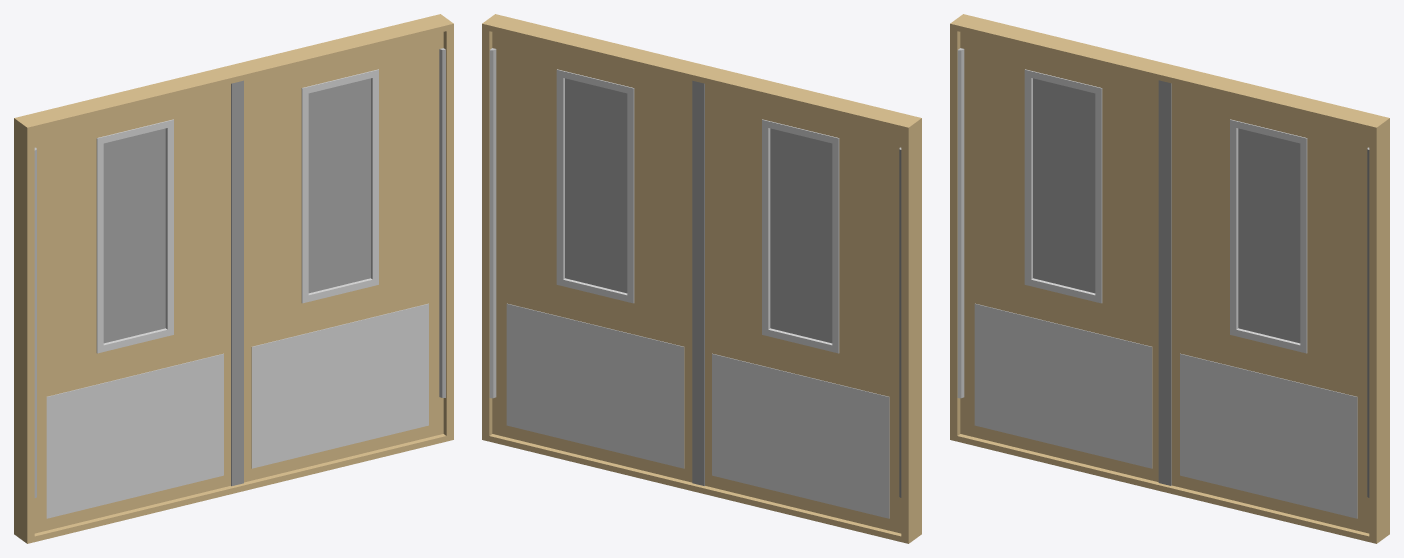
The model's file is a door1.fbx.
The picture shows the model from 3 angles, left to right: view 1: azimuth 30°, elevation 25°; view 2: azimuth 150°, elevation 25°; view 3: azimuth 330°, elevation 25°; orthographic projection.
Visible parts, largest first — view 1: Cube_14, Cube_10, Boole; view 2: Cube_14, Cube_10, Boole; view 3: Cube_14, Cube_10, Boole.
Part boxes in pixels (bbox=[...]): Cube_14: bbox=[231, 32, 445, 486]; Cube_10: bbox=[34, 84, 230, 533]; Boole: bbox=[14, 14, 453, 543]; Cube_14: bbox=[489, 32, 704, 485]; Cube_10: bbox=[705, 84, 901, 533]; Boole: bbox=[482, 14, 921, 543]; Cube_14: bbox=[1158, 80, 1369, 533]; Cube_10: bbox=[957, 32, 1158, 481]; Boole: bbox=[950, 14, 1389, 543].
Size of the model in its own units: 257 by 239 by 13.79.
